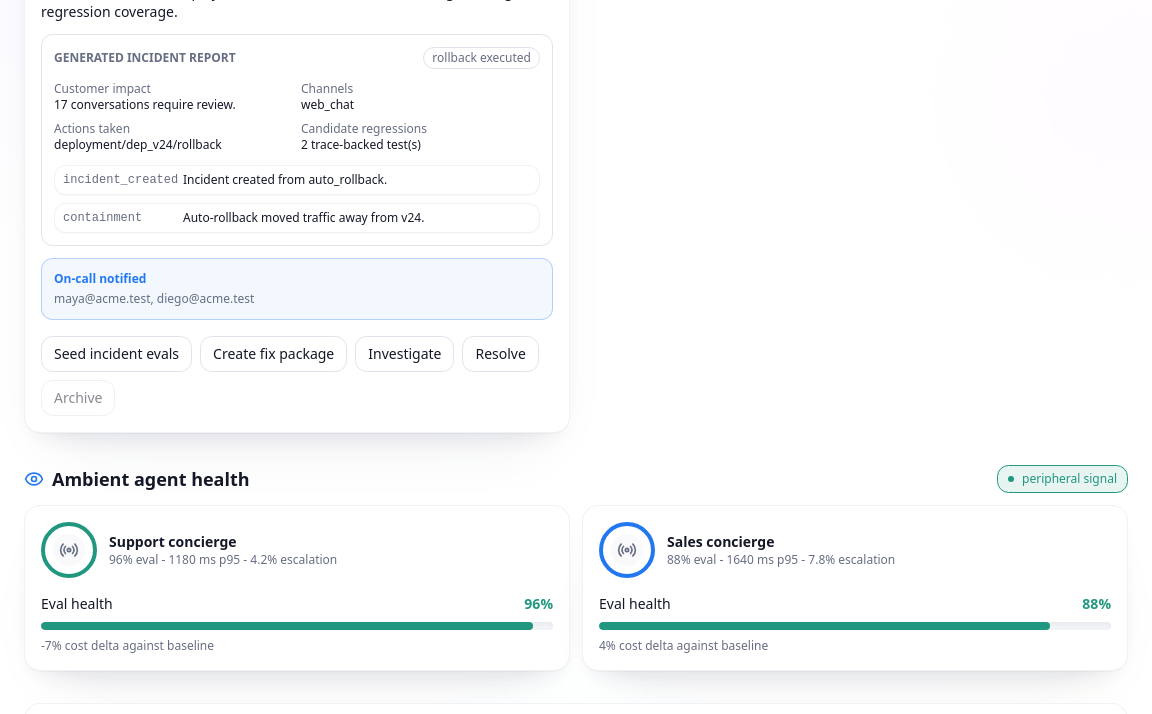
it: ObservatoryScreen › seeds incident evals from the incident panel
The image size is (1152, 714).
(page scrolled)
Click the button with test id "incident-seed-inc_rollback_schema".
click(117, 354)  # box top-left (41, 336), bottom-right (192, 372)
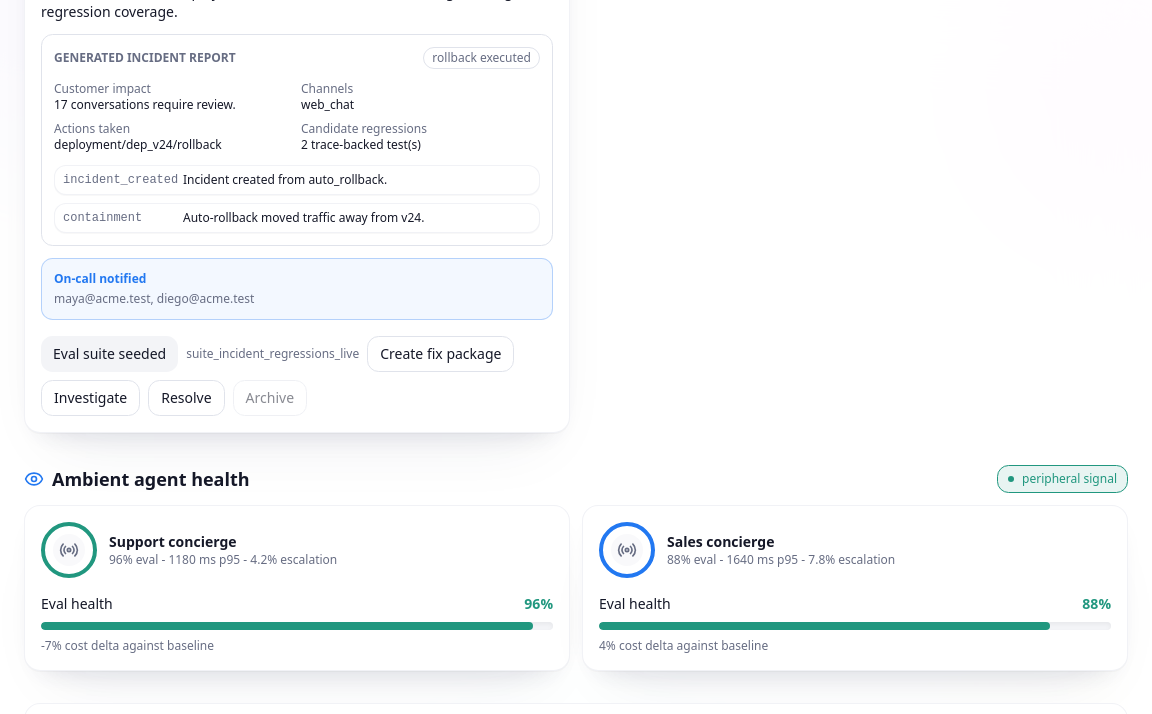
Expected: the text with test id "incident-suite-inc_rollback_schema" reads "suite_incident_regressions_live", top-left (186, 345), bottom-right (359, 362)
